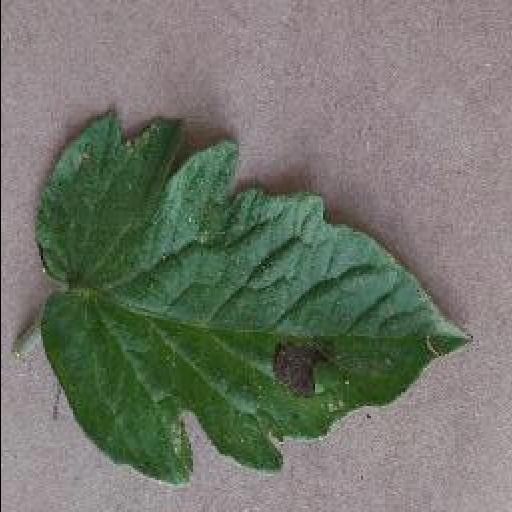disease_tomato: (42, 112, 468, 492)
